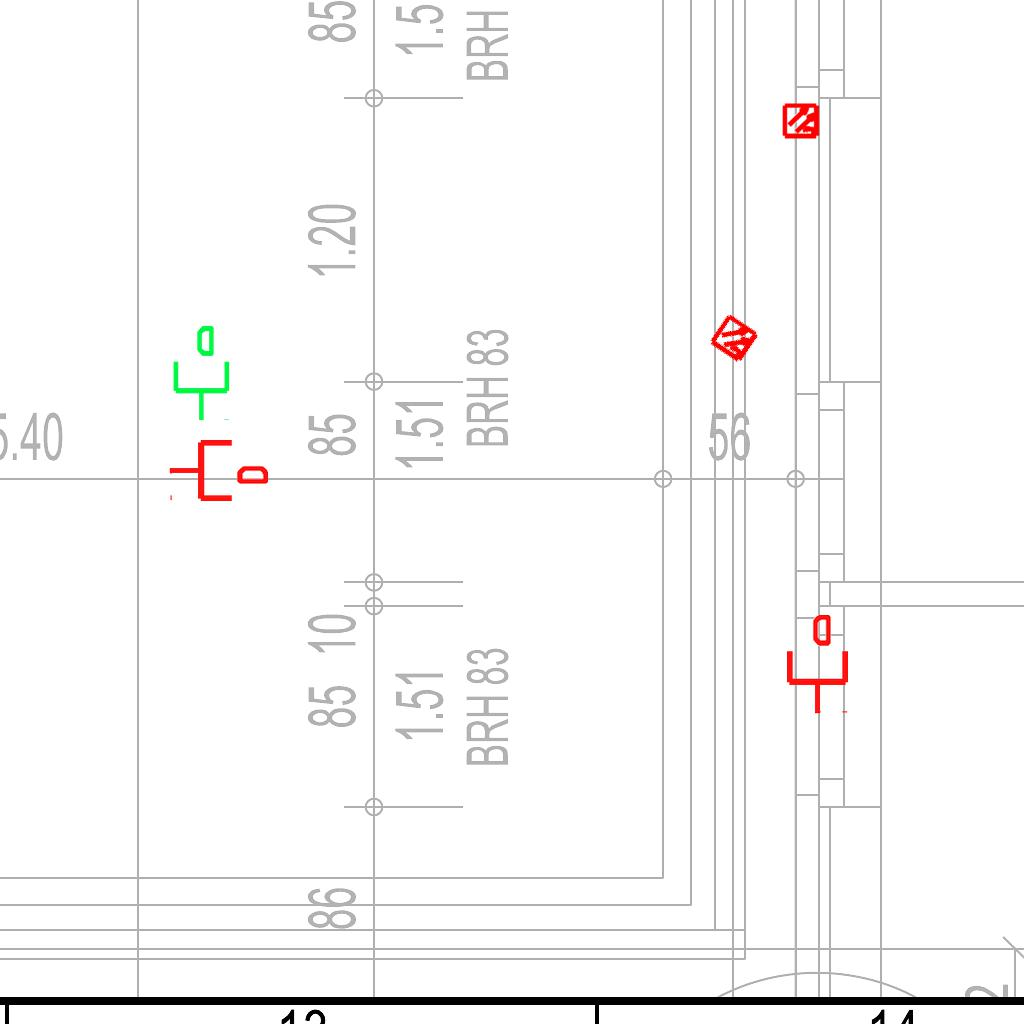Datenanschluss_einfach: (165, 323, 234, 423), (168, 436, 268, 505), (783, 615, 852, 715)
OT_Multisensormelder_(Kombination_RMO_WMD): (696, 300, 774, 378), (774, 93, 830, 149)
